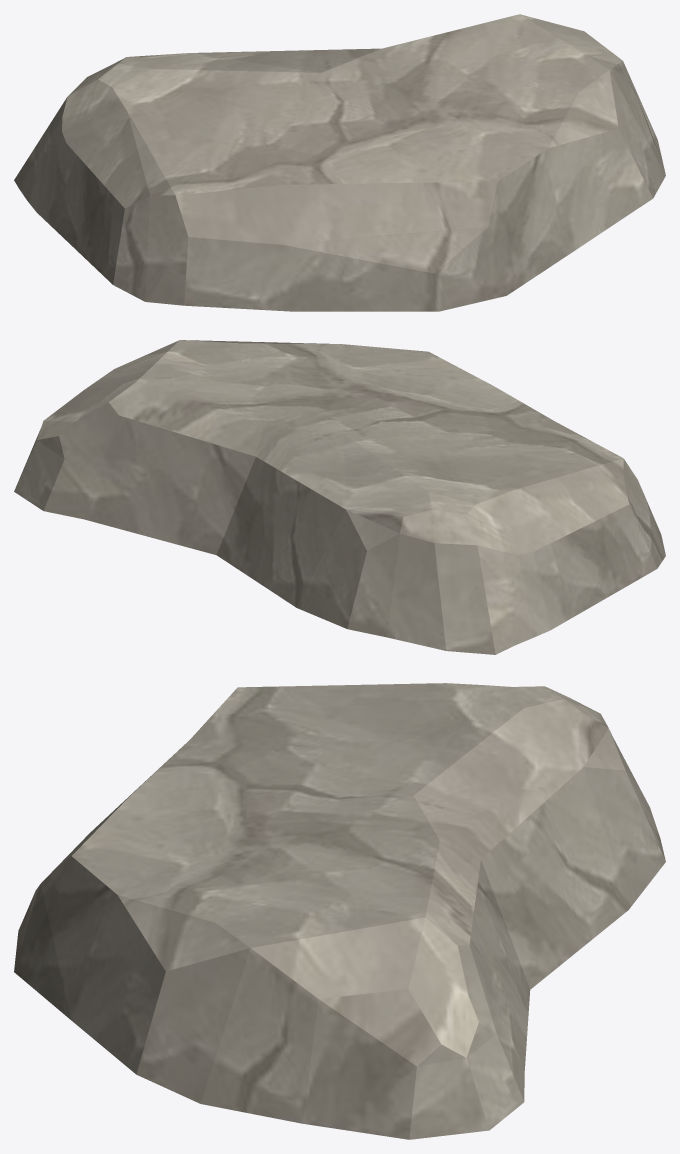
Rendered from gpebble_round_1.glb.
3 renders of one model, top to bottom at view 1: azimuth 30°, elevation 25°; view 2: azimuth 150°, elevation 25°; view 3: azimuth 270°, elevation 25°, orthographic. The views are drawn at different scales.
Parts seen in each view (by area): view 1: model; view 2: model; view 3: model.
Part boxes in pixels (bbox=[...]): model: bbox=[14, 14, 665, 311]; model: bbox=[14, 340, 665, 654]; model: bbox=[14, 683, 665, 1139].
Bounding box in the file's own units: 0.4909 × 0.1017 × 0.3653.
Materials: 1 (1 with a texture image).
